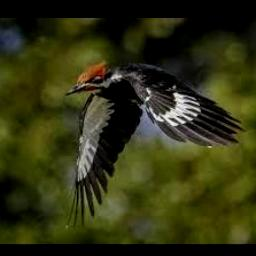Woodpecker: (65, 59, 246, 229)
